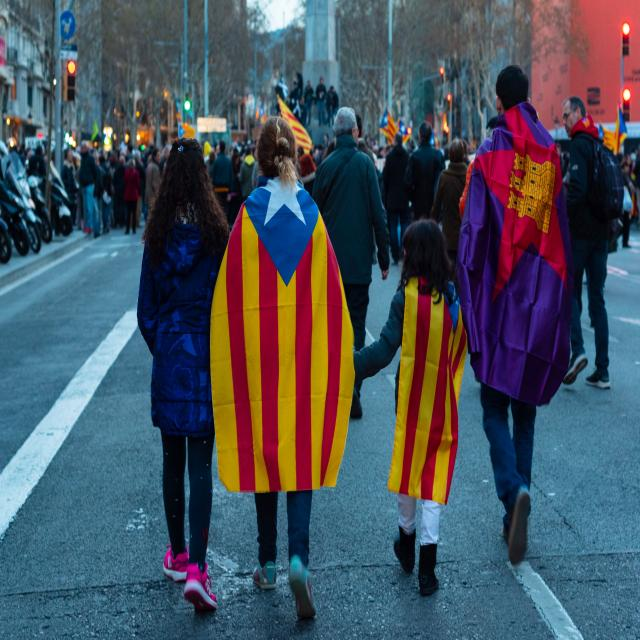adult: (211, 120, 352, 622), (463, 54, 580, 564), (132, 113, 224, 625), (355, 207, 464, 612), (310, 109, 389, 410), (562, 96, 616, 383)
